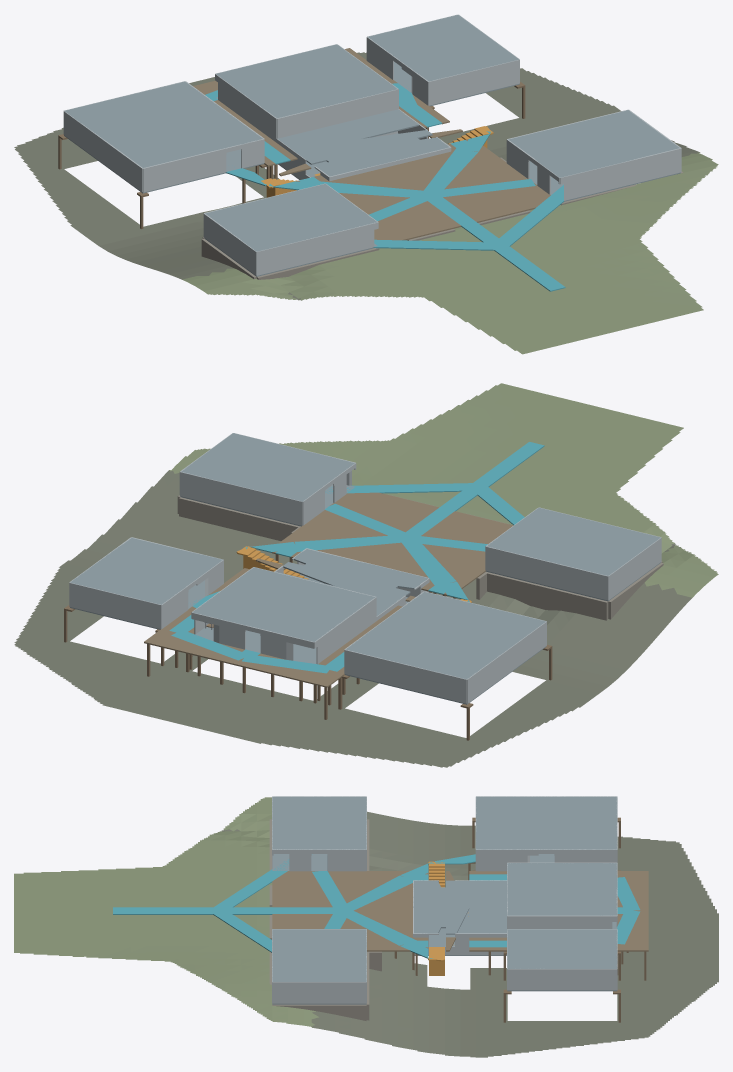
The model's file is aligned-stairs.glb.
3 views of the same model, one above another, from view 1: azimuth 30°, elevation 25°; view 2: azimuth 150°, elevation 25°; view 3: azimuth 270°, elevation 25° (orthographic). The views are drawn at different scales.
Visible parts, largest first — view 1: Saved editor macroterrain WLD-06, Ceiling cap boathouse, Ceiling cap fish, Ceiling cap cottage-a, Ceiling cap cottage-b, Ceiling cap net, Flat route shell Wall cottage-a S, Flat route shell Wall cottage-b S, Wall fish S, Wall net S, Flat route shell Wall boathouse S, Wall boathouse W (+23 smaller); view 2: Saved editor macroterrain WLD-06, Ceiling cap boathouse, Ceiling cap fish, Ceiling cap cottage-b, Ceiling cap cottage-a, Ceiling cap net, Wall cottage-a N, Wall boathouse N, Wall cottage-b N, Wall net N, Wall boathouse W, Flat route shell Wall fish W (+17 smaller); view 3: Saved editor macroterrain WLD-06, Ceiling cap boathouse, Ceiling cap fish, Ceiling cap cottage-a, Ceiling cap cottage-b, Ceiling cap net, Wall net E, Wall cottage-b E, Flat route shell Wall fish E, Flat route shell Wall boathouse E.001, Ceiling cap undercroft, Ceiling cap undercroft.004 (+23 smaller).
Boxes of the visible parts, left/top/right/bottom form: Saved editor macroterrain WLD-06: left=14, top=52, right=718, bottom=354; Ceiling cap boathouse: left=64, top=81, right=263, bottom=167; Ceiling cap fish: left=216, top=44, right=397, bottom=118; Ceiling cap cottage-a: left=205, top=184, right=376, bottom=251; Ceiling cap cottage-b: left=508, top=110, right=679, bottom=177; Ceiling cap net: left=368, top=15, right=518, bottom=81; Flat route shell Wall cottage-a S: left=256, top=222, right=378, bottom=275; Flat route shell Wall cottage-b S: left=560, top=148, right=681, bottom=200; Wall fish S: left=277, top=89, right=398, bottom=138; Wall net S: left=428, top=59, right=519, bottom=105; Flat route shell Wall boathouse S: left=143, top=148, right=226, bottom=192; Wall boathouse W: left=63, top=111, right=142, bottom=192; Saved editor macroterrain WLD-06: left=14, top=383, right=718, bottom=767; Ceiling cap boathouse: left=345, top=591, right=545, bottom=678; Ceiling cap fish: left=192, top=567, right=375, bottom=641; Ceiling cap cottage-b: left=181, top=433, right=354, bottom=501; Ceiling cap cottage-a: left=486, top=507, right=660, bottom=575; Ceiling cap net: left=70, top=538, right=222, bottom=604; Wall cottage-a N: left=485, top=546, right=608, bottom=600; Wall boathouse N: left=344, top=649, right=466, bottom=703; Wall cottage-b N: left=180, top=471, right=302, bottom=525; Wall net N: left=69, top=582, right=161, bottom=628; Wall boathouse W: left=467, top=621, right=546, bottom=703; Flat route shell Wall fish W: left=314, top=597, right=376, bottom=664; Saved editor macroterrain WLD-06: left=14, top=797, right=718, bottom=1057; Ceiling cap boathouse: left=476, top=796, right=617, bottom=849; Ceiling cap fish: left=507, top=863, right=617, bottom=915; Ceiling cap cottage-a: left=272, top=796, right=366, bottom=849; Ceiling cap cottage-b: left=272, top=929, right=366, bottom=981; Ceiling cap net: left=507, top=929, right=617, bottom=968; Wall net E: left=507, top=968, right=617, bottom=990; Wall cottage-b E: left=272, top=982, right=366, bottom=1003; Flat route shell Wall fish E: left=507, top=915, right=617, bottom=928; Flat route shell Wall boathouse E.001: left=476, top=849, right=538, bottom=871; Ceiling cap undercroft: left=469, top=880, right=506, bottom=906; Ceiling cap undercroft.004: left=469, top=908, right=506, bottom=933.
Bounding box in the file's own units: 70 × 7.86 × 90.
Materials: 31 (12 with a texture image).
